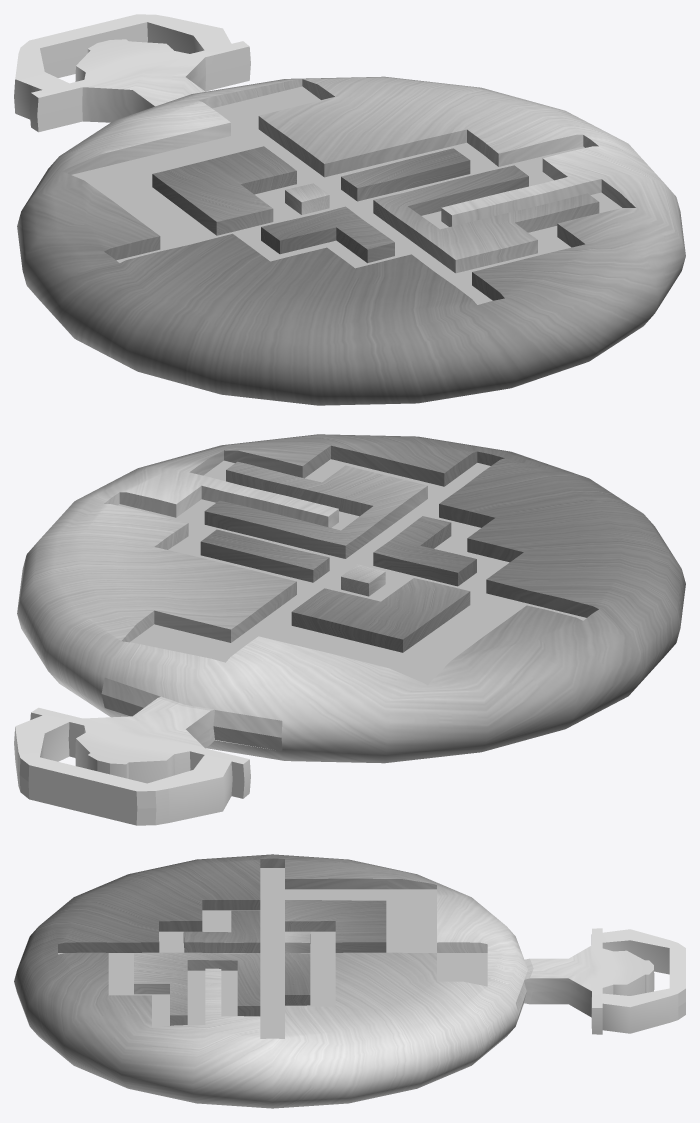
The model's file is pocketWatch.fbx.
3 views of the same model, one above another, from view 1: azimuth 30°, elevation 25°; view 2: azimuth 150°, elevation 25°; view 3: azimuth 270°, elevation 25° (orthographic). The views are drawn at different scales.
Parts seen in each view (by area): view 1: pocketWatch; view 2: pocketWatch; view 3: pocketWatch.
Boxes of the visible parts, x1=… form: pocketWatch: x1=14, y1=14, x2=685, y2=405; pocketWatch: x1=14, y1=434, x2=685, y2=825; pocketWatch: x1=14, y1=854, x2=685, y2=1108.
Bounding box in the file's own units: 2 × 0.2905 × 2.6.
